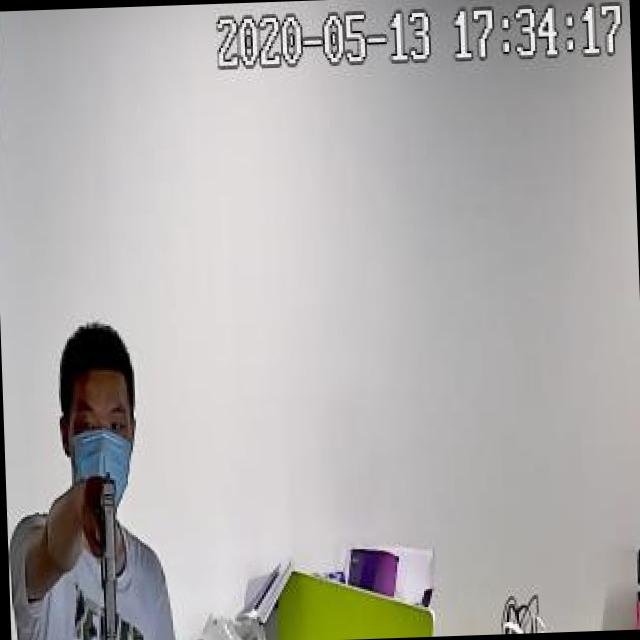Guns: (66, 442, 143, 640)
